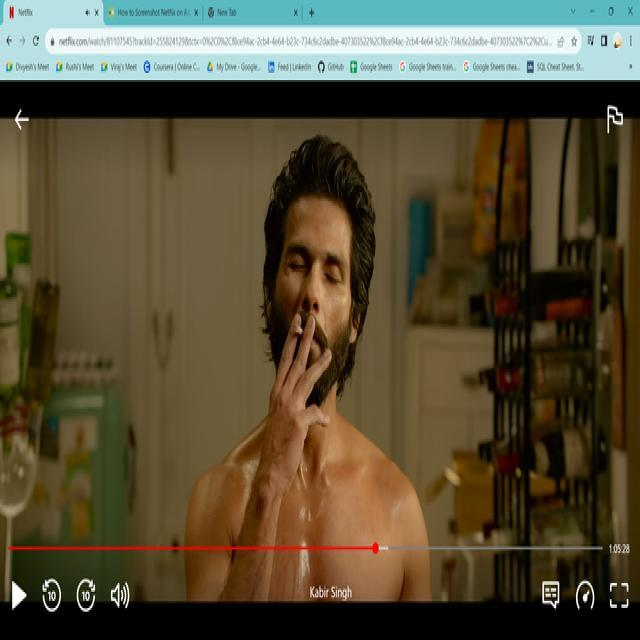smoking: (289, 316, 312, 344)
